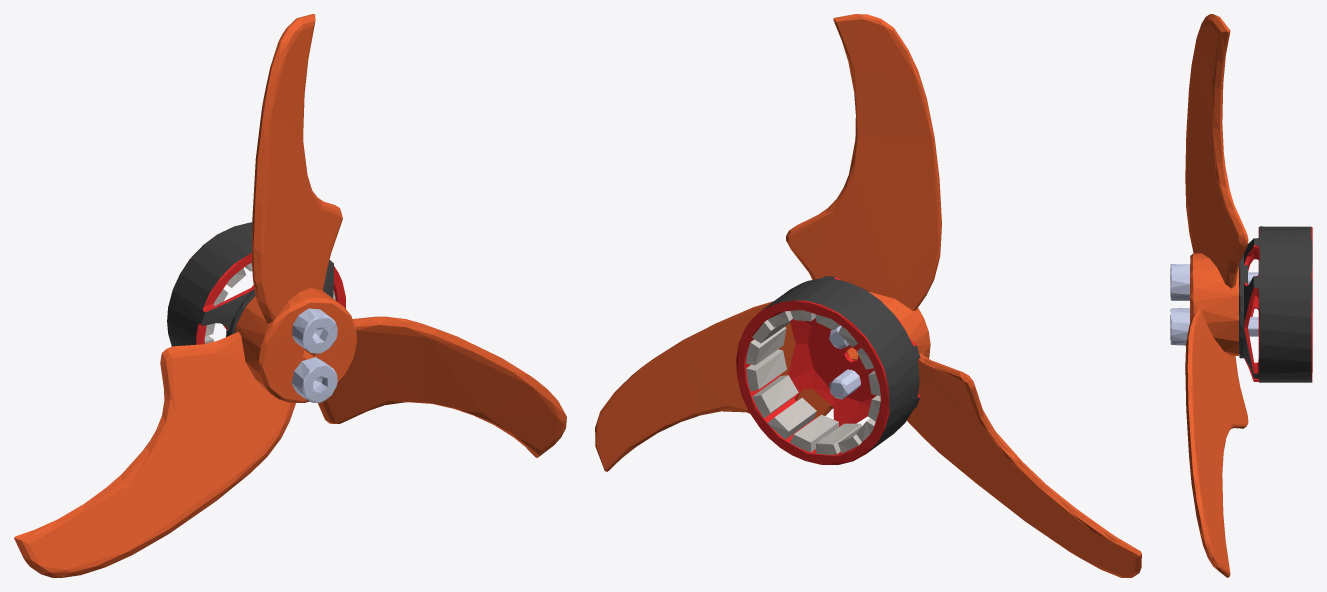
Rendered from obrik_prop_ccw.obj.
The picture shows the model from 3 angles, left to right: view 1: azimuth 30°, elevation 25°; view 2: azimuth 150°, elevation 25°; view 3: azimuth 270°, elevation 25°; orthographic projection. The views are drawn at different scales.
Parts seen in each view (by area): view 1: prop_ccw; view 2: prop_ccw; view 3: prop_ccw.
Boxes of the visible parts, left/top/right/bottom form: prop_ccw: left=14, top=14, right=566, bottom=577; prop_ccw: left=595, top=14, right=1141, bottom=577; prop_ccw: left=1170, top=14, right=1312, bottom=577.
Size of the model in its own units: 0.0576 by 0.051 by 0.0145.
